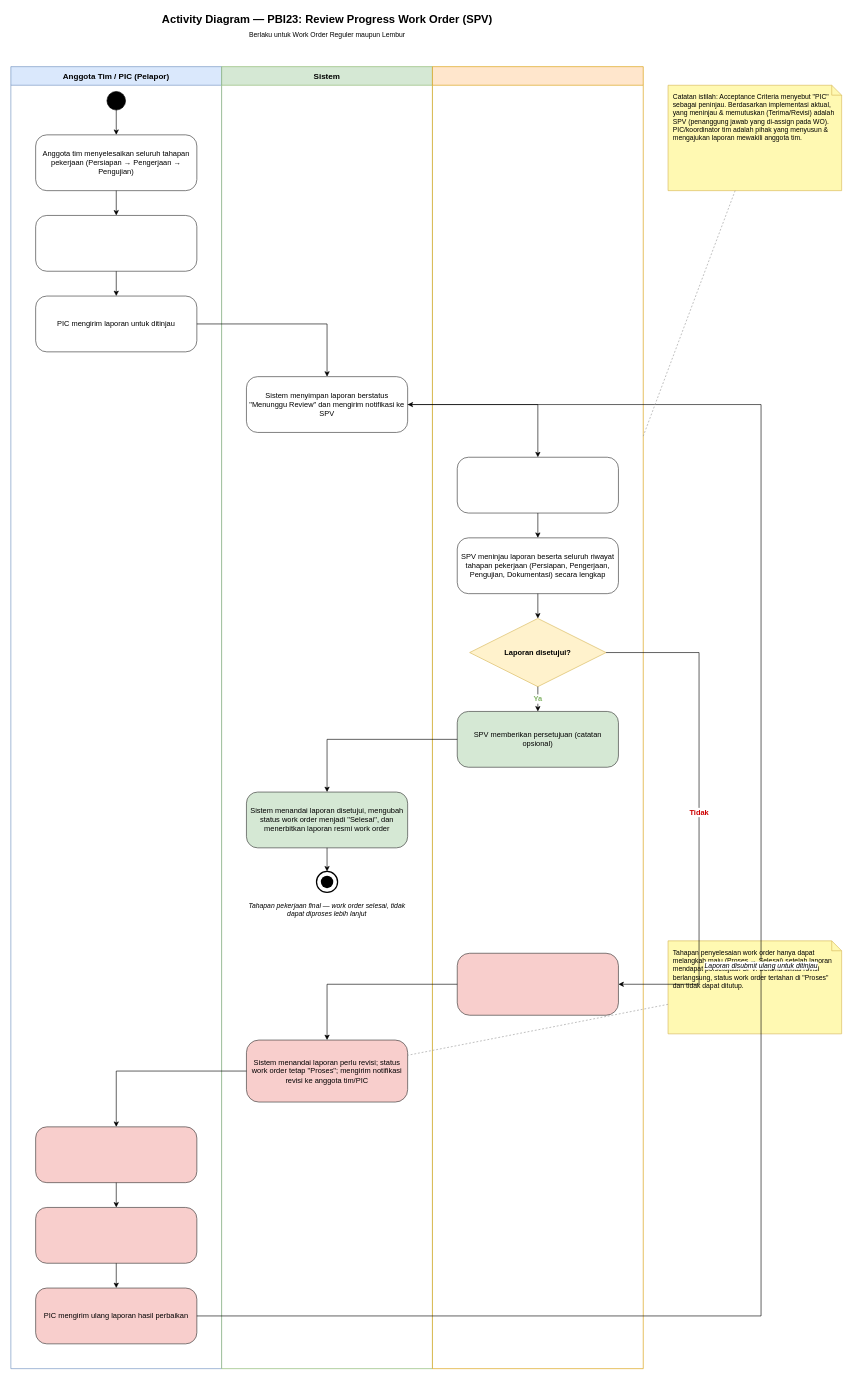
This 853x1380 diagram has some shape labels left out. Here are the shapes that lost their labels. From the top down, the box of each, then its label:
(35, 215, 197, 271): PIC menyusun laporan akhir pekerjaan (deskripsi hasil kerja + dokumentasi foto)
(457, 457, 618, 513): SPV menerima notifikasi dan membuka detail laporan
(432, 66, 643, 1369): SPV (Reviewer)
(457, 953, 618, 1015): SPV mengisi catatan revisi (wajib diisi) dan mengirim permintaan revisi
(35, 1126, 197, 1183): Anggota tim/PIC menerima notifikasi dan melihat catatan revisi
(35, 1207, 197, 1263): PIC memperbaiki laporan sesuai catatan
